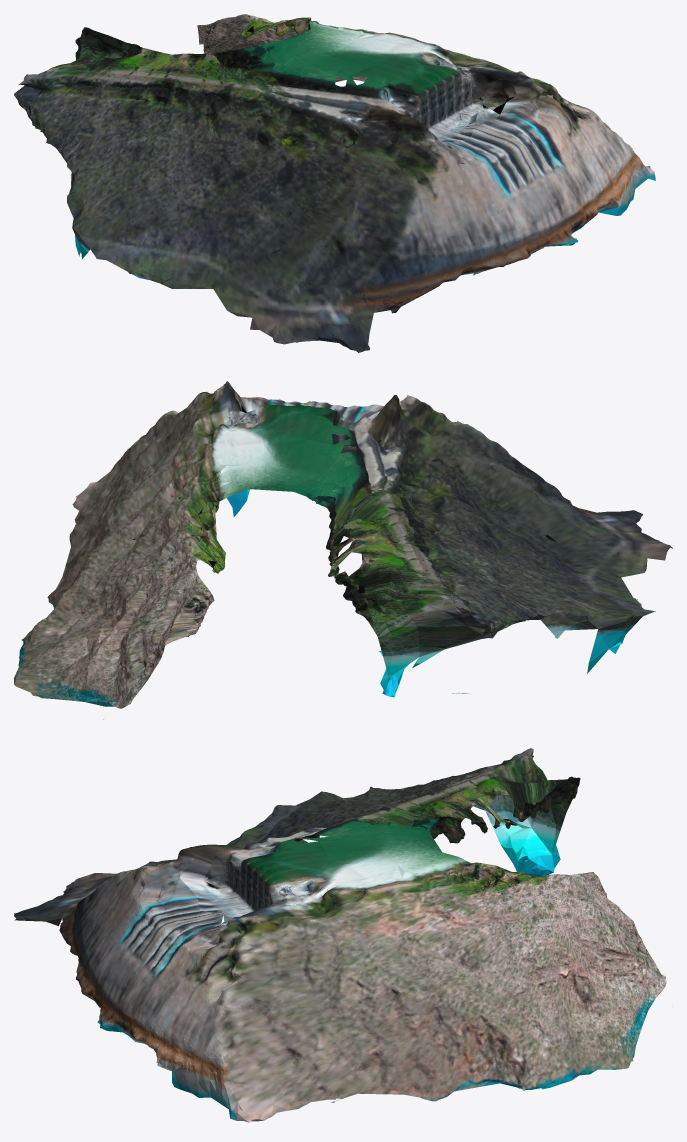
File: cortina.obj
3 views of the same model, one above another, from view 1: azimuth 30°, elevation 25°; view 2: azimuth 150°, elevation 25°; view 3: azimuth 270°, elevation 25° (orthographic). The views are drawn at different scales.
Bounding box in the file's own units: 351 × 97.25 × 351.
Materials: 1 (1 with a texture image).
